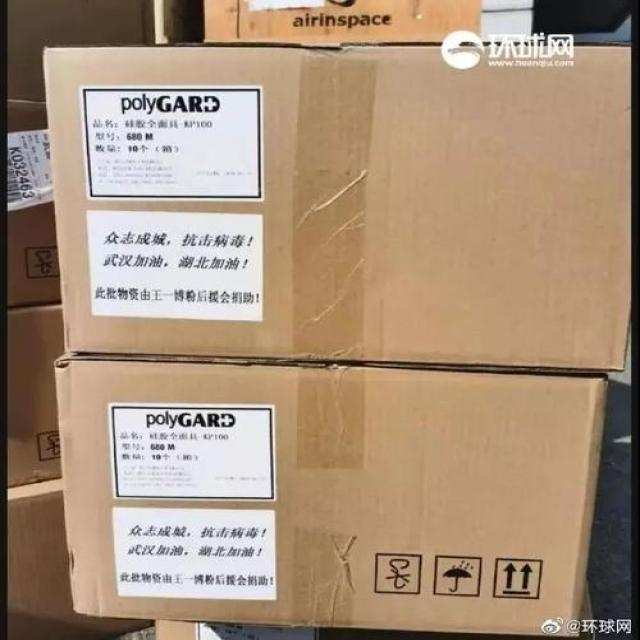box: (42, 41, 631, 372), (52, 354, 612, 638), (9, 477, 156, 640), (8, 0, 155, 102), (202, 0, 480, 46), (8, 100, 61, 307), (5, 304, 63, 486)
